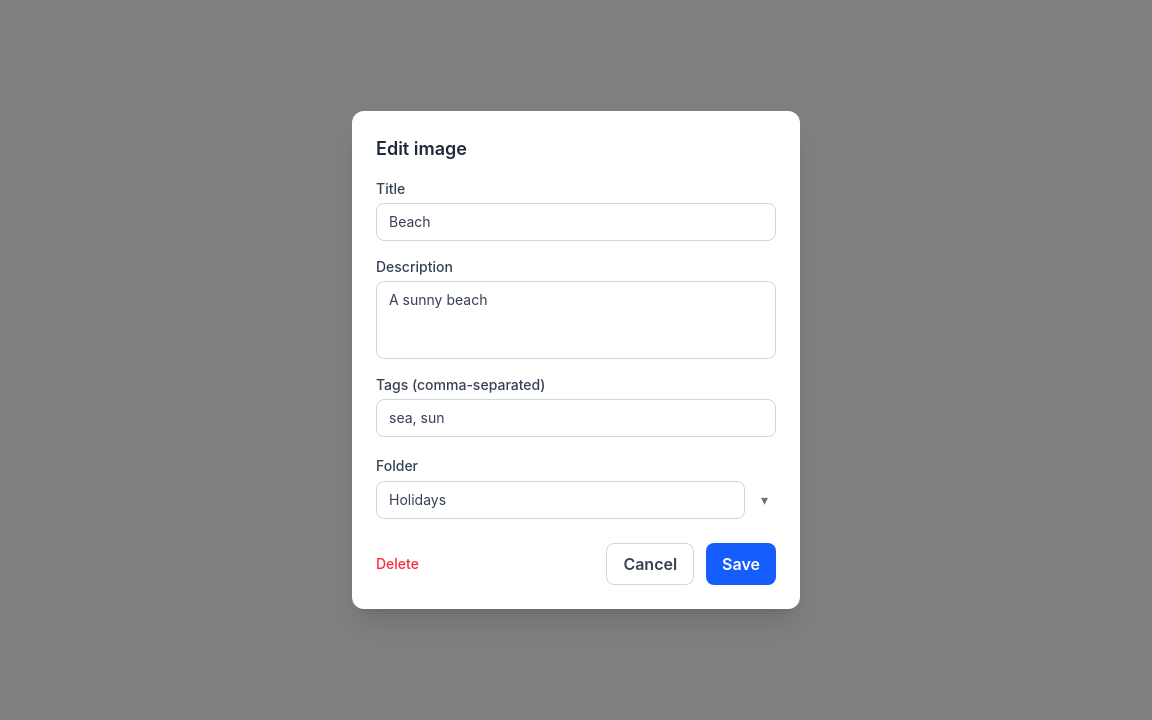
Test case: ImageEditModal › shows an error message when save fails
Step 1. Click the button with test id "edit-save-button" → (741, 564), box [706,543,776,585]
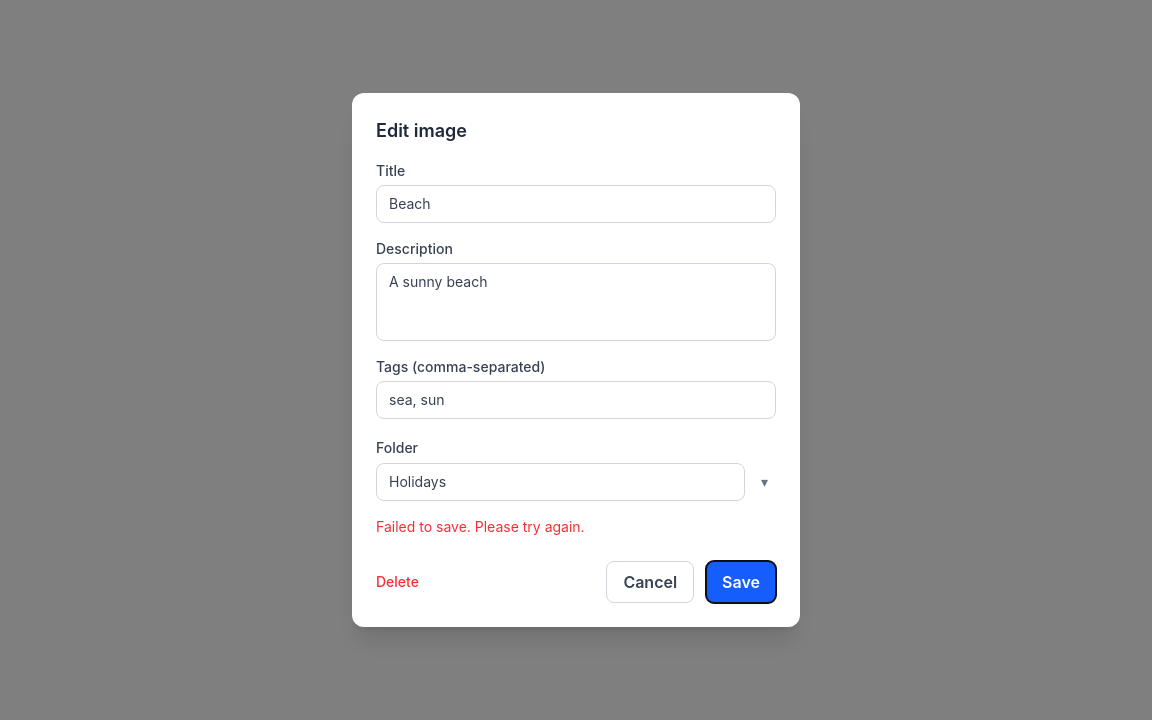
Result: the text "Failed to save. Please try again." is shown at [376,518,585,535]
